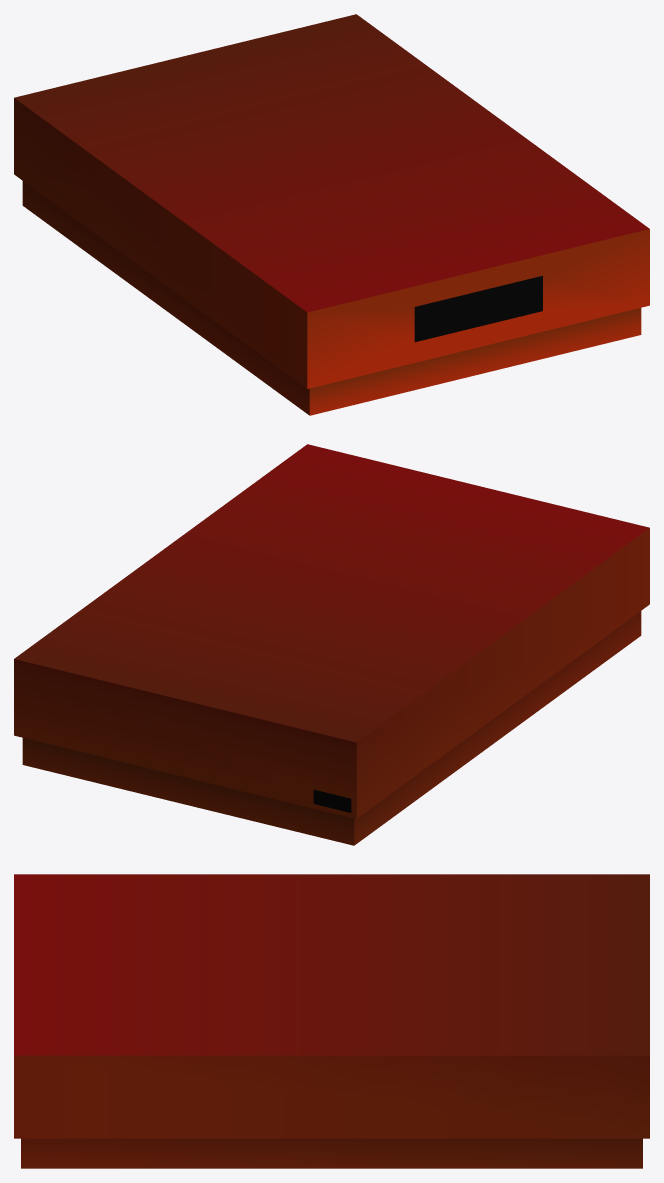
3 renders of one model, top to bottom at view 1: azimuth 30°, elevation 25°; view 2: azimuth 150°, elevation 25°; view 3: azimuth 270°, elevation 25°, orthographic. The views are drawn at different scales.
Visible parts, largest first — view 1: Joint_0_Object_0, Joint_0_Object_1; view 2: Joint_0_Object_0, Joint_0_Object_1; view 3: Joint_0_Object_0.
Boxes of the visible parts, x1,y1,x2,y2 form: Joint_0_Object_0: (14, 14, 649, 415); Joint_0_Object_1: (414, 275, 542, 342); Joint_0_Object_0: (14, 444, 649, 845); Joint_0_Object_1: (313, 789, 351, 812); Joint_0_Object_0: (14, 874, 649, 1168).
Bounding box in the file's own units: 620 × 185 × 920.
Materials: 2 (1 with a texture image).
